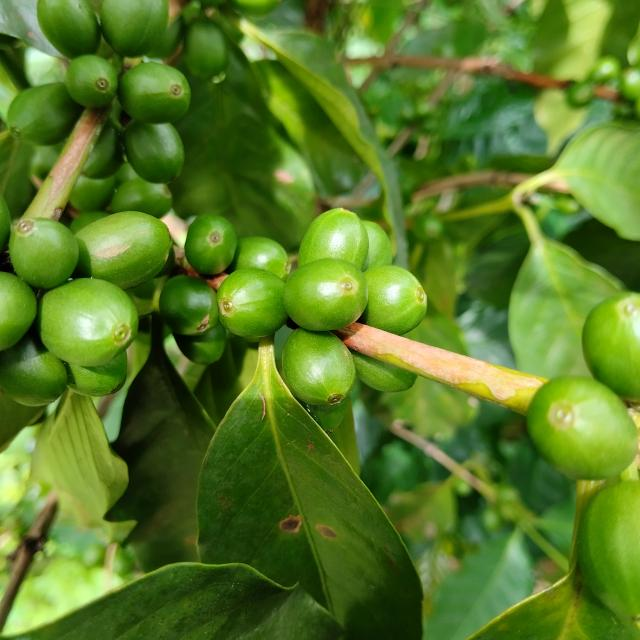green: (528, 377, 640, 481), (35, 278, 138, 367), (74, 211, 172, 290), (283, 258, 369, 331), (583, 292, 640, 402), (282, 328, 356, 406), (0, 330, 66, 407), (8, 217, 78, 289), (216, 268, 288, 338), (359, 265, 428, 335), (6, 82, 82, 145), (117, 61, 190, 123), (298, 208, 369, 268), (123, 119, 184, 183), (100, 0, 168, 56), (36, 0, 100, 58), (159, 275, 218, 336), (184, 214, 237, 275), (0, 271, 36, 351), (64, 54, 118, 107), (350, 350, 418, 392), (64, 352, 127, 397), (227, 237, 291, 280), (81, 121, 122, 178), (362, 220, 393, 272)
